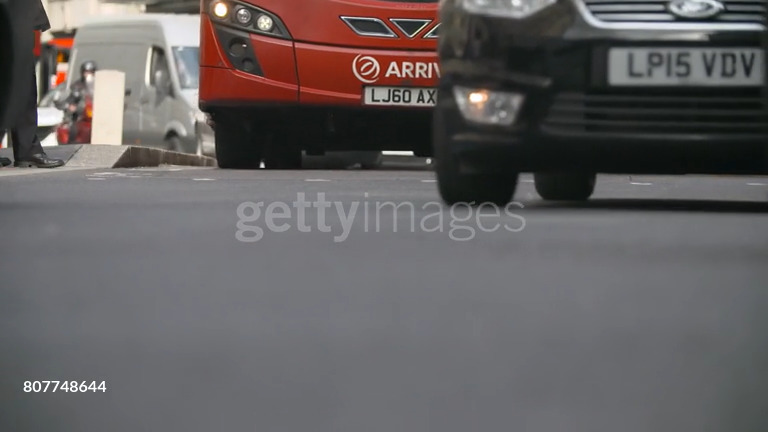car number: (603, 46, 760, 84), (361, 85, 437, 105)
